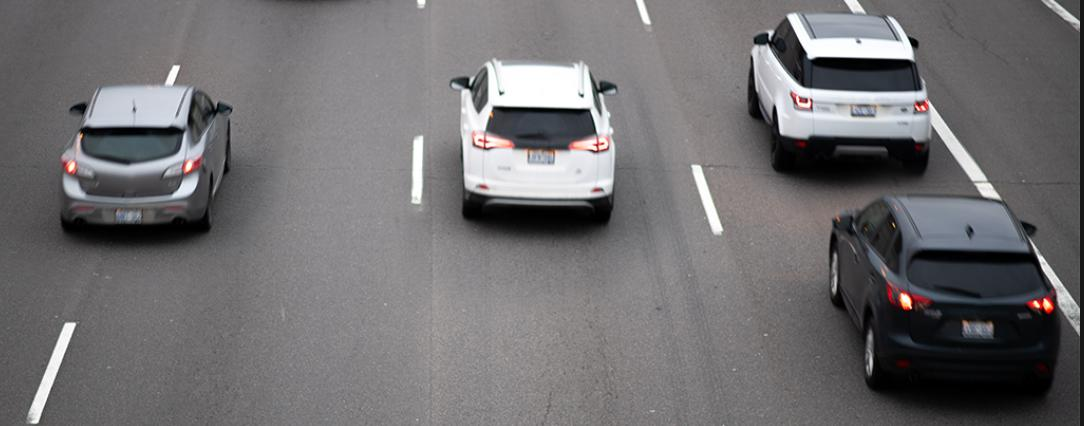car: (819, 189, 1064, 407), (743, 5, 945, 170), (444, 54, 628, 228), (54, 70, 229, 242)
